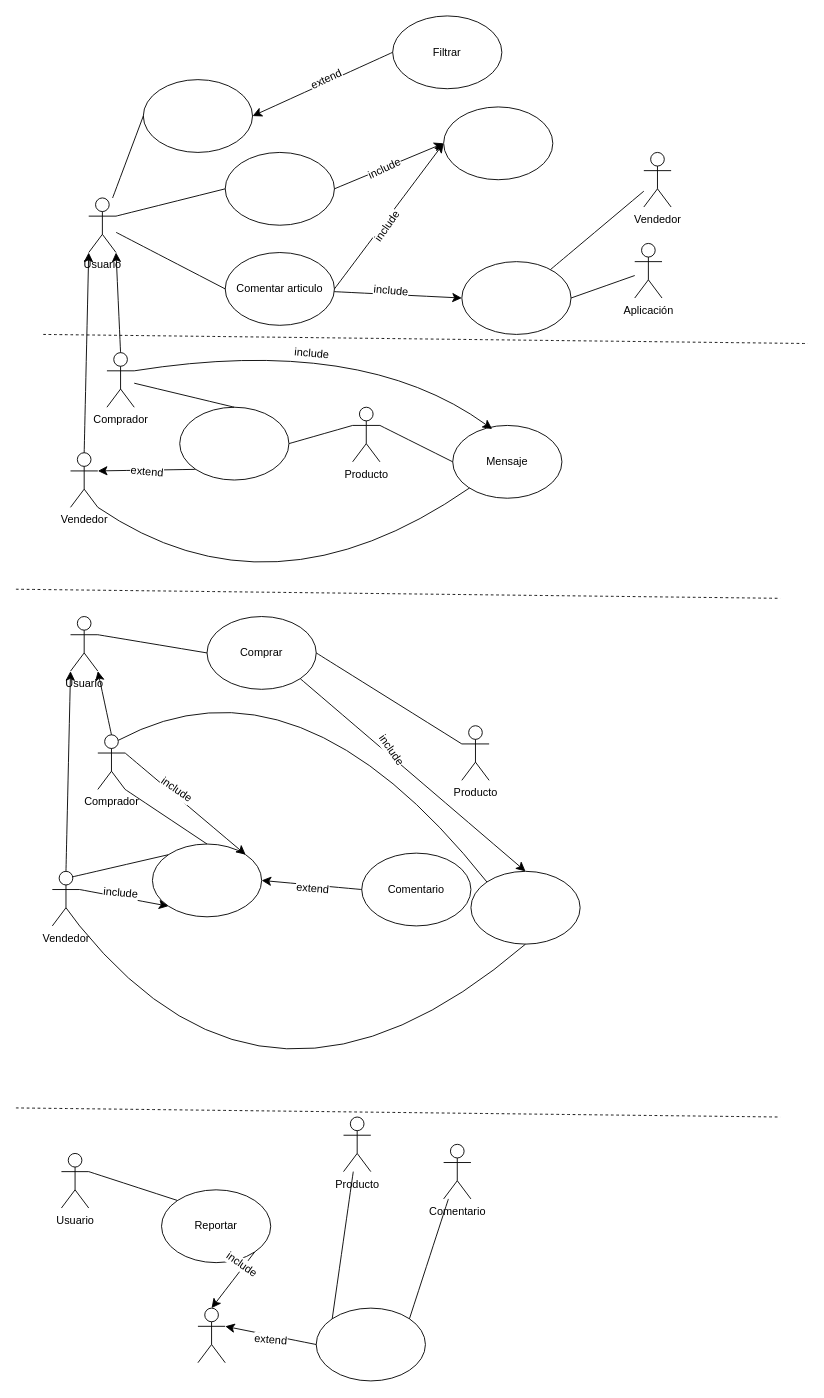
Image size: 824x1398. Some labels were removed from this diagram. Each missing label, with the box of its shape:
Aviso: (461, 261, 571, 334)
Eliminar: (315, 1307, 425, 1381)
Empleado: (197, 1307, 225, 1363)
Listar Articulo: (142, 79, 253, 152)
Notificación: (470, 870, 580, 944)
Publicar articulo: (224, 152, 334, 225)
Registrarse: (443, 106, 553, 180)
Respuesta: (179, 406, 289, 480)
Valoración: (152, 843, 262, 917)
